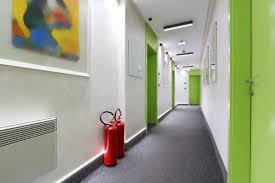wall-mounted: (99, 110, 117, 167), (112, 108, 126, 158)
